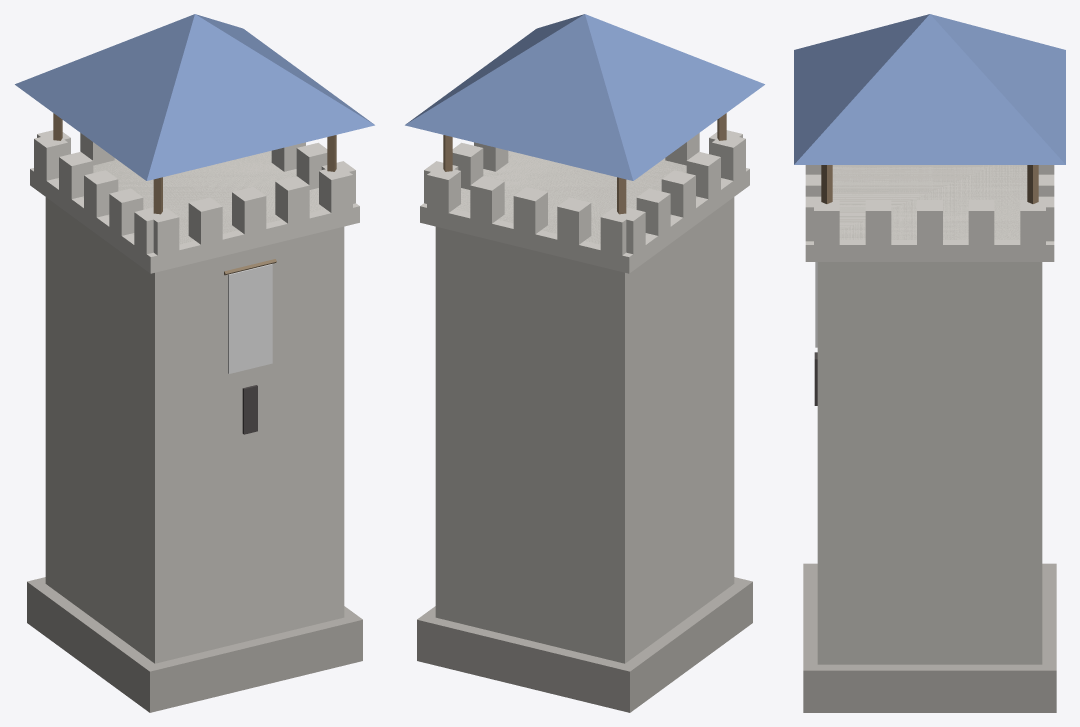
The picture shows the model from 3 angles, left to right: view 1: azimuth 30°, elevation 25°; view 2: azimuth 150°, elevation 25°; view 3: azimuth 270°, elevation 25°; orthographic projection. The views are drawn at different scales.
Visible parts, largest first — view 1: body; view 2: body; view 3: body.
Boxes of the visible parts, x1=… form: body: x1=15, y1=14, x2=374, y2=712; body: x1=405, y1=14, x2=764, y2=712; body: x1=794, y1=14, x2=1065, y2=712.
Bounding box in the file's own units: 5.8 × 15.2 × 5.8.
